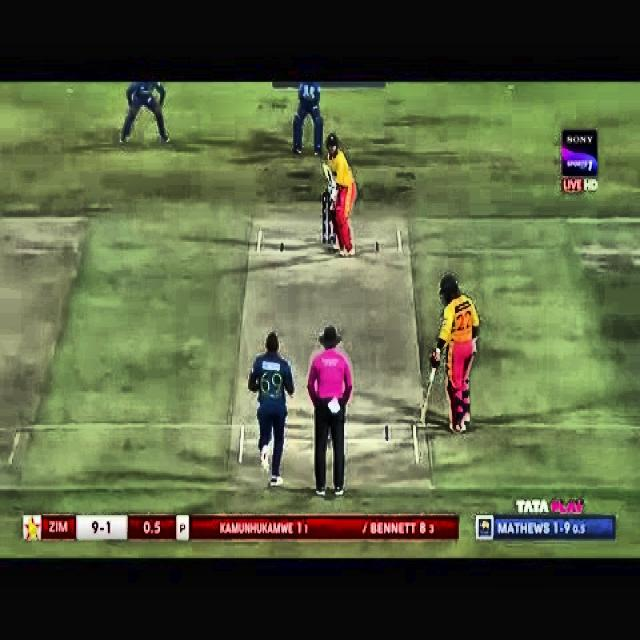Left-stump: (323, 195, 326, 244)
Middle-stump: (328, 210, 332, 243)
Right-stump: (334, 230, 336, 243)
